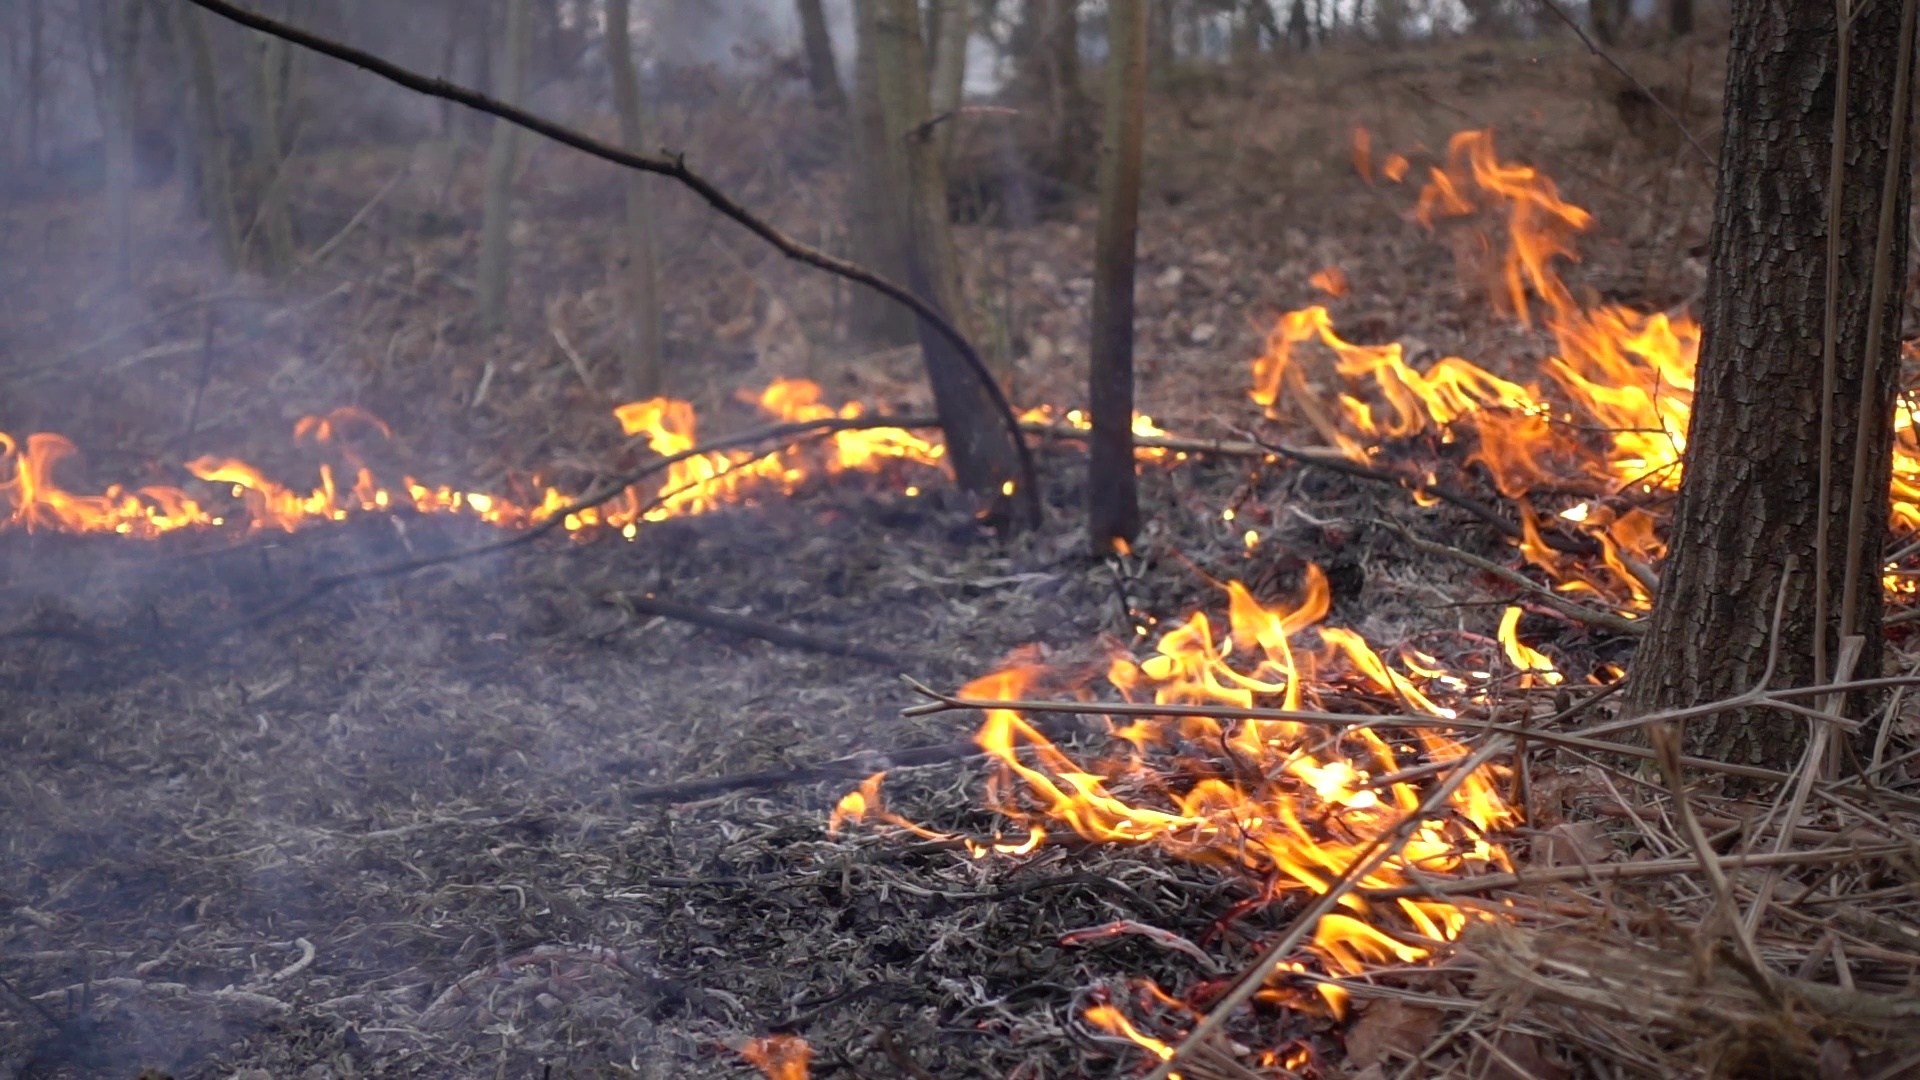fire: (982, 579, 1506, 975), (1247, 148, 1695, 496), (1, 436, 332, 535), (752, 368, 944, 487), (617, 388, 757, 517), (396, 475, 512, 521), (1896, 397, 1920, 521)
